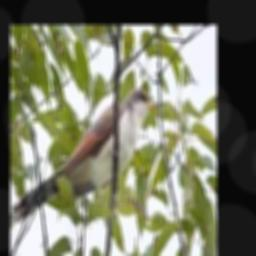Cuckoo: (12, 88, 162, 224)
